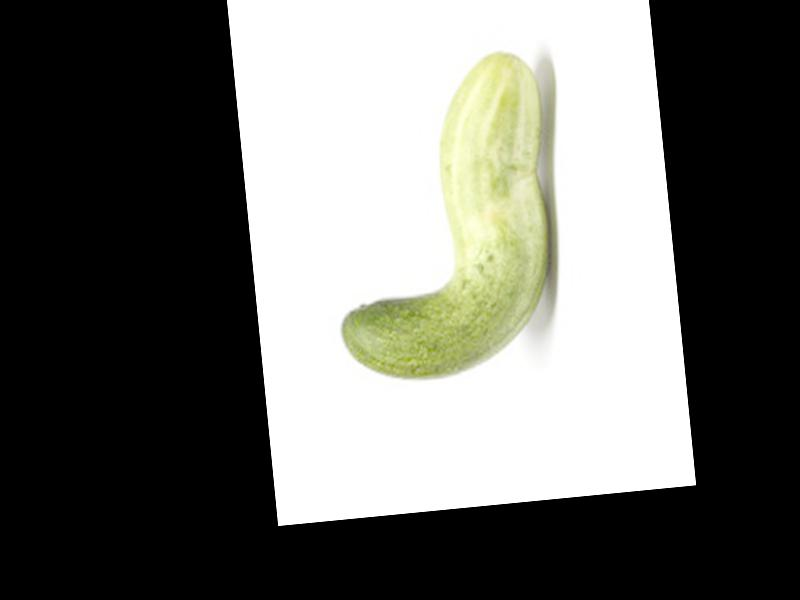Cucumber: (315, 47, 567, 388)
